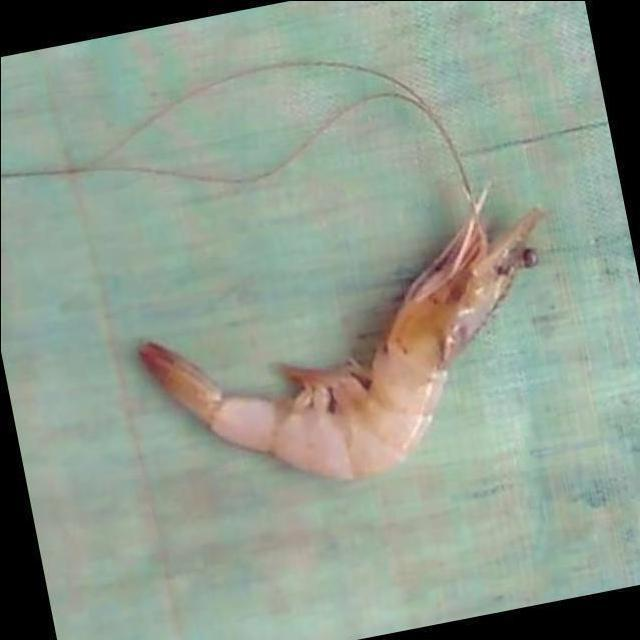shrimp: (137, 193, 542, 479)
